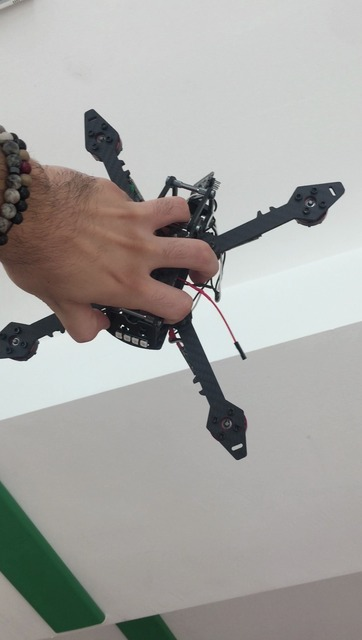drone: (0, 106, 345, 462)
